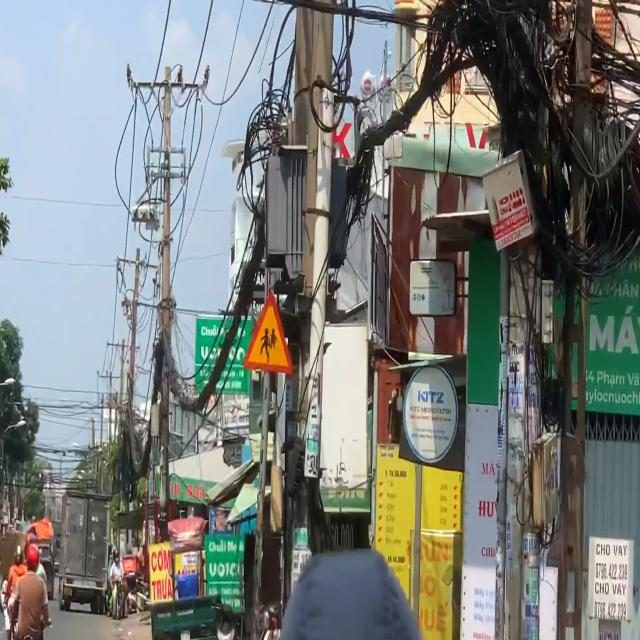Nguy hiem: (240, 288, 295, 380)
